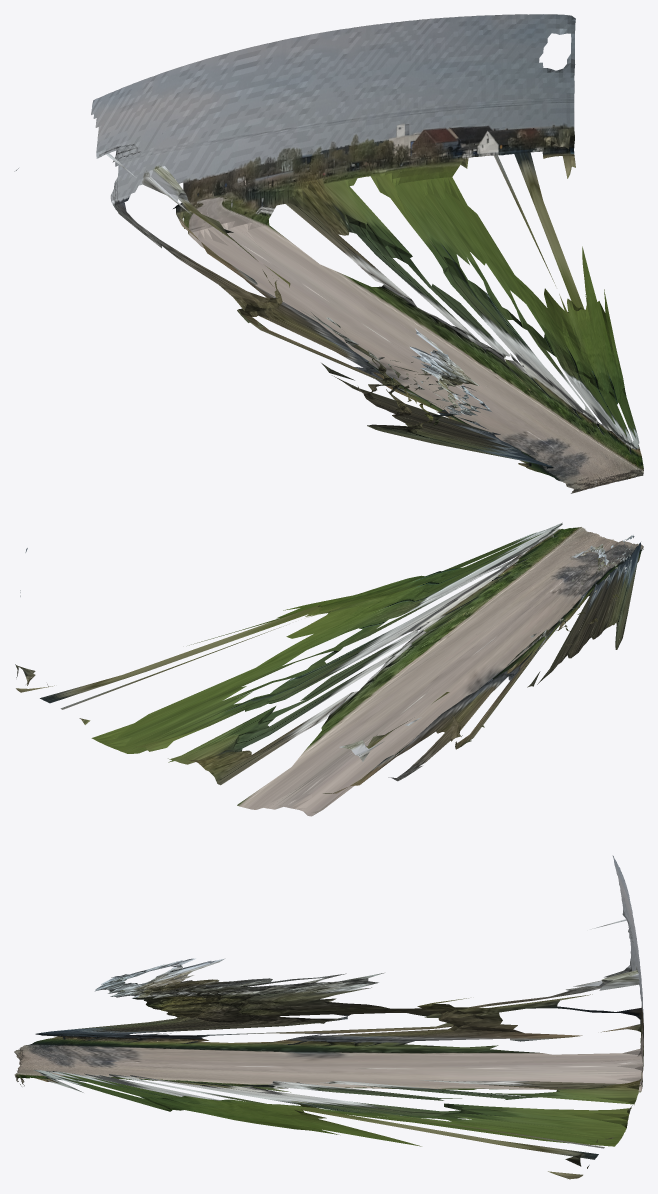
3 renders of one model, top to bottom at view 1: azimuth 30°, elevation 25°; view 2: azimuth 150°, elevation 25°; view 3: azimuth 270°, elevation 25°, orthographic. The views are drawn at different scales.
Visible parts, largest first — view 1: defaultobject; view 2: defaultobject; view 3: defaultobject.
Part boxes in pixels (x1,y1,x2,y2): defaultobject: (14, 14, 643, 493); defaultobject: (15, 522, 643, 816); defaultobject: (14, 855, 643, 1179).
Size of the model in its own units: 38.7 by 12.47 by 44.41.
Materials: 1 (1 with a texture image).
